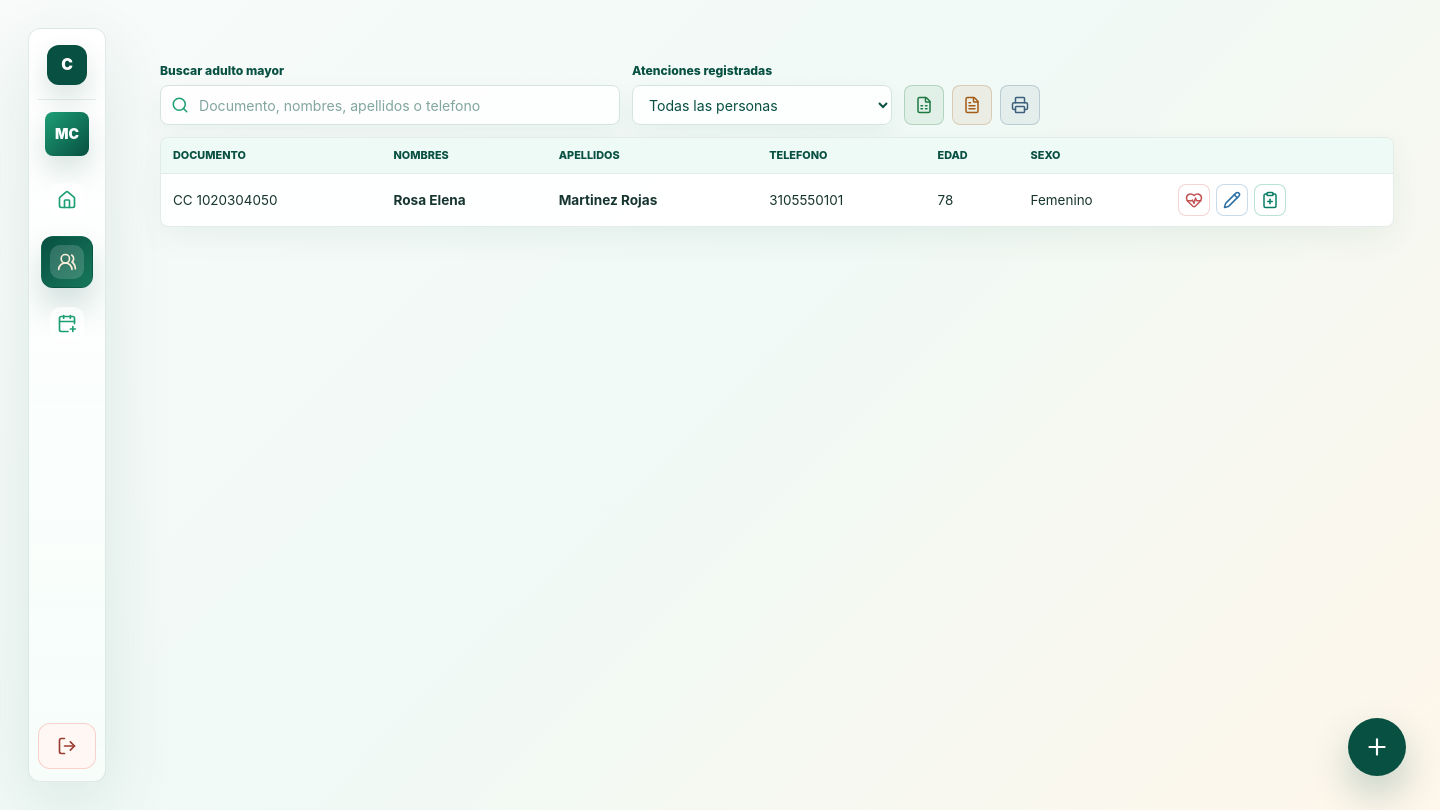
Test: App atenciones flow › opens historia clinica for a professional and shows only editable owned attentions
Click the button named "Historia clinica de Rosa Elena Martinez Rojas" at [1270, 200], box [1254,184,1286,216]
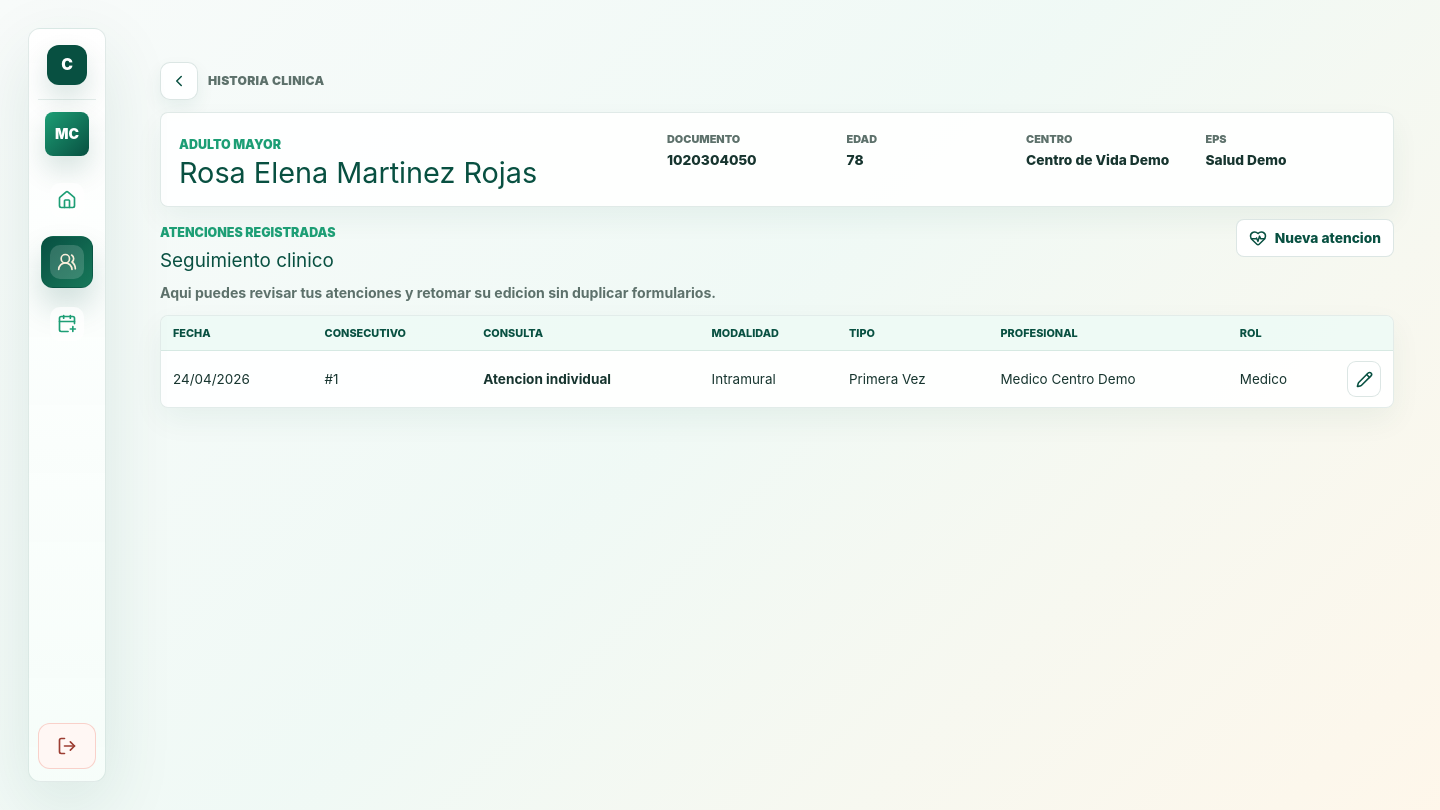
Check: the heading "Seguimiento clinico" is shown, box [160,249,334,272]
Check: the button "Nueva atencion" is shown, box [1236,219,1394,257]
Check: the button named "Editar" is shown, box [1347,361,1381,397]
